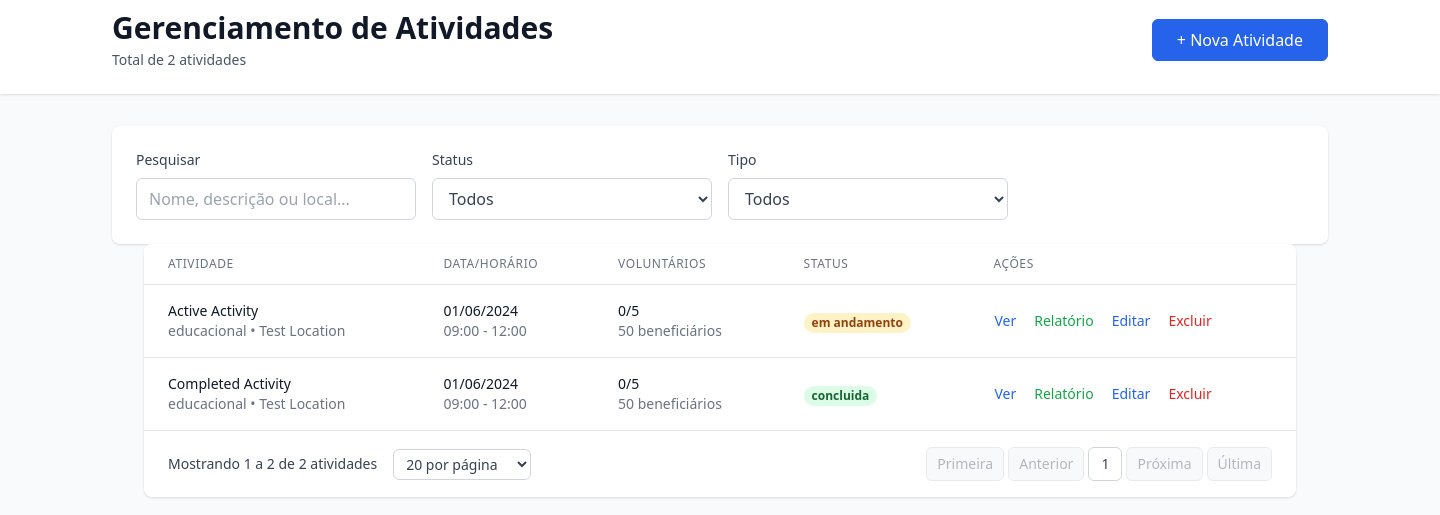
Test: ONGActivitiesPage › Filtering › should filter activities by status
Expected: the text "Active Activity" is shown, x1=168 y1=301 x2=258 y2=320
Expected: the text "Completed Activity" is shown, x1=168 y1=374 x2=291 y2=393
Select "Concluída" in the 1st dropdown: (572, 199) x1=432 y1=178 x2=712 y2=220
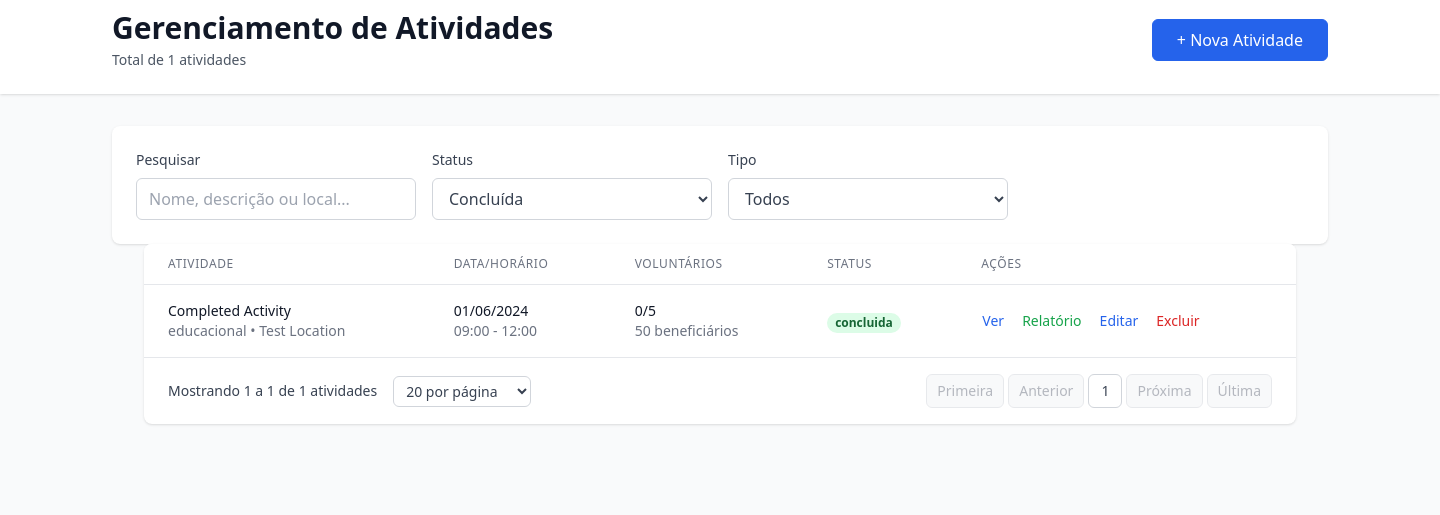
Expected: the text "Completed Activity" is shown, x1=168 y1=301 x2=291 y2=320
Now the text "Active Activity" is gone
